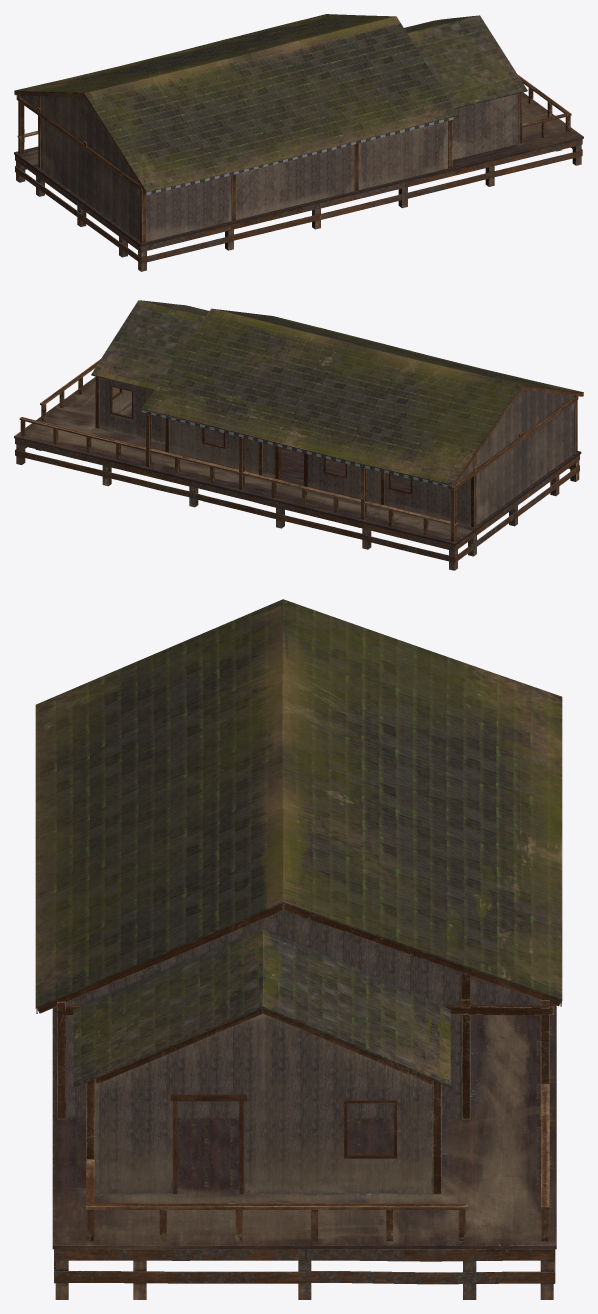
Rendered from wooden_house.obj.
3 views of the same model, one above another, from view 1: azimuth 30°, elevation 25°; view 2: azimuth 150°, elevation 25°; view 3: azimuth 270°, elevation 25° (orthographic). The views are drawn at different scales.
Visible parts, largest first — view 1: obj7, obj57, obj53, obj65, obj8, obj9, obj54, obj64, obj59, obj15, obj60, obj61 (+2 smaller); view 2: obj7, obj9, obj53, obj65, obj6, obj8, obj55, obj60, obj64, obj61, obj58, obj15 (+2 smaller); view 3: obj7, obj9, obj52, obj8, obj56, obj65, obj60, obj16, obj64, obj17, obj61, obj63 (+6 smaller).
Boxes of the visible parts, left/top/right/bottom form: obj7: left=14, top=14, right=458, bottom=192; obj57: left=146, top=121, right=447, bottom=241; obj53: left=21, top=95, right=139, bottom=240; obj65: left=15, top=139, right=582, bottom=263; obj8: left=404, top=15, right=527, bottom=108; obj9: left=14, top=92, right=583, bottom=246; obj54: left=452, top=93, right=518, bottom=159; obj64: left=16, top=145, right=581, bottom=271; obj59: left=146, top=116, right=458, bottom=194; obj15: left=16, top=95, right=142, bottom=190; obj60: left=17, top=74, right=571, bottom=138; obj61: left=528, top=88, right=570, bottom=137; obj7: left=141, top=308, right=583, bottom=485; obj9: left=14, top=377, right=581, bottom=545; obj53: left=457, top=389, right=574, bottom=524; obj65: left=15, top=438, right=579, bottom=562; obj6: left=169, top=419, right=470, bottom=525; obj8: left=91, top=300, right=209, bottom=390; obj55: left=100, top=377, right=165, bottom=444; obj60: left=19, top=359, right=457, bottom=526; obj64: left=16, top=444, right=579, bottom=570; obj61: left=20, top=377, right=428, bottom=534; obj58: left=141, top=409, right=452, bottom=488; obj15: left=449, top=397, right=578, bottom=490; obj7: left=35, top=599, right=562, bottom=1008; obj9: left=52, top=1005, right=556, bottom=1249; obj52: left=95, top=1014, right=432, bottom=1193; obj8: left=73, top=929, right=450, bottom=1087; obj56: left=66, top=910, right=540, bottom=1118; obj65: left=54, top=1249, right=555, bottom=1284; obj60: left=86, top=1084, right=549, bottom=1210; obj16: left=283, top=903, right=560, bottom=1006; obj64: left=55, top=1249, right=553, bottom=1299; obj17: left=37, top=903, right=283, bottom=1013; obj61: left=87, top=1210, right=548, bottom=1241; obj63: left=170, top=1094, right=246, bottom=1193.
Bounding box in the file's own units: 12.97 × 3.84 × 6.7.
13 materials, 13 textured.
